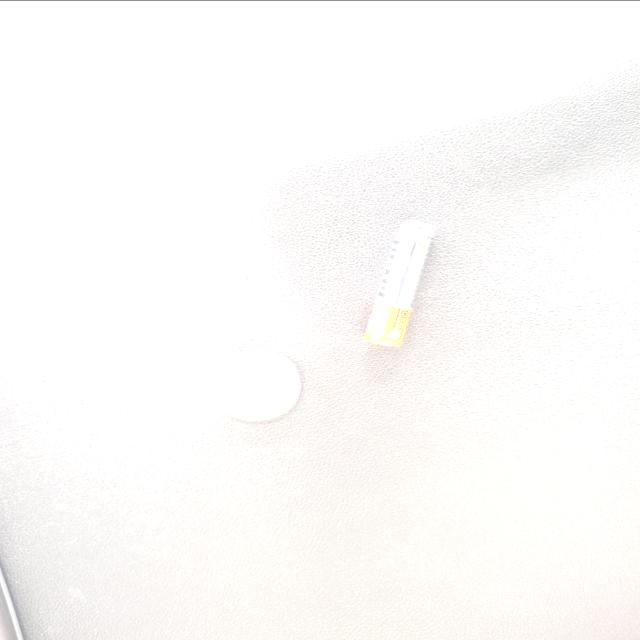AAA: (294, 312, 461, 368)
COIN: (466, 414, 560, 484)
